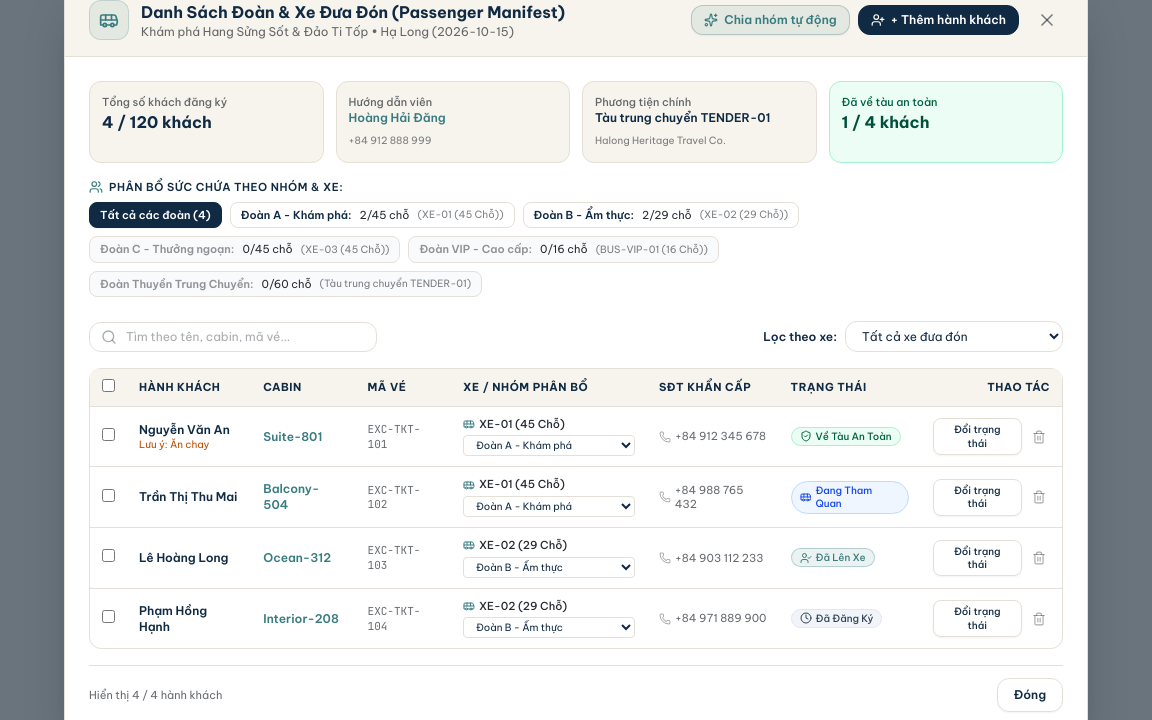
Test case: ExcursionManifestModal Component Suite (KAN-174) › filters manifest passengers when typing "Thu Mai"
The image size is (1152, 720).
Type "Thu Mai" into the field with placeholder "Tìm theo tên, cabin, mã vé...".
click(233, 337); type("Thu Mai")  # box [89,322,377,352]
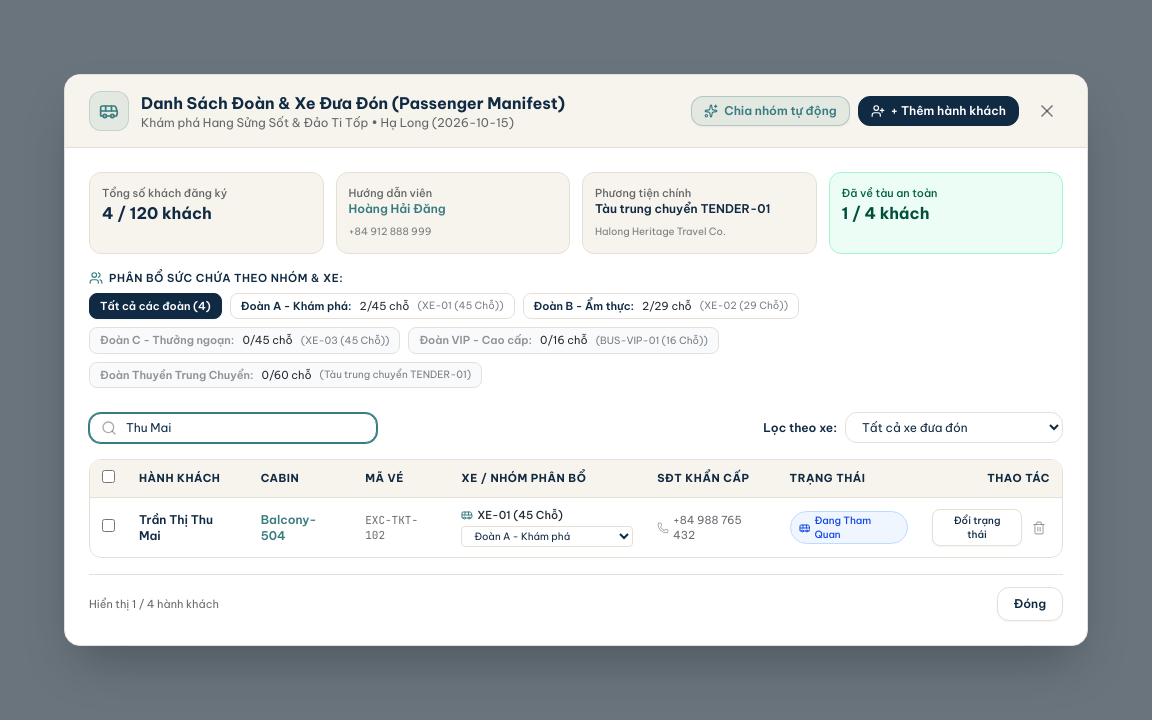
Expected: the text "Trần Thị Thu Mai" is shown, [127,497,249,558]
Now the text "Nguyễn Văn An" is gone
